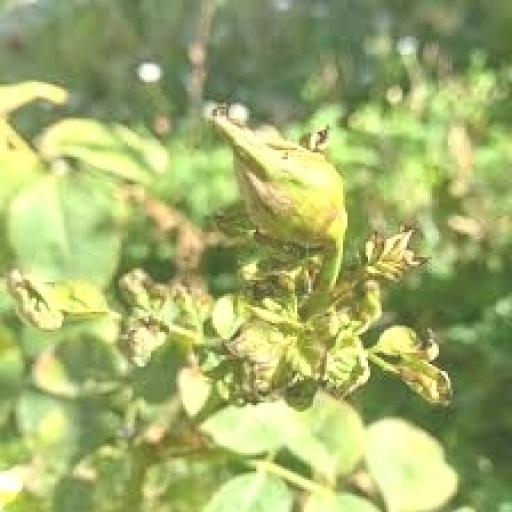healthy_leaf: (201, 394, 363, 471), (366, 419, 455, 510), (203, 471, 290, 510)
thrip: (119, 269, 190, 364), (370, 325, 450, 403), (7, 271, 107, 328), (224, 319, 290, 400), (320, 330, 368, 396), (363, 230, 423, 278)
